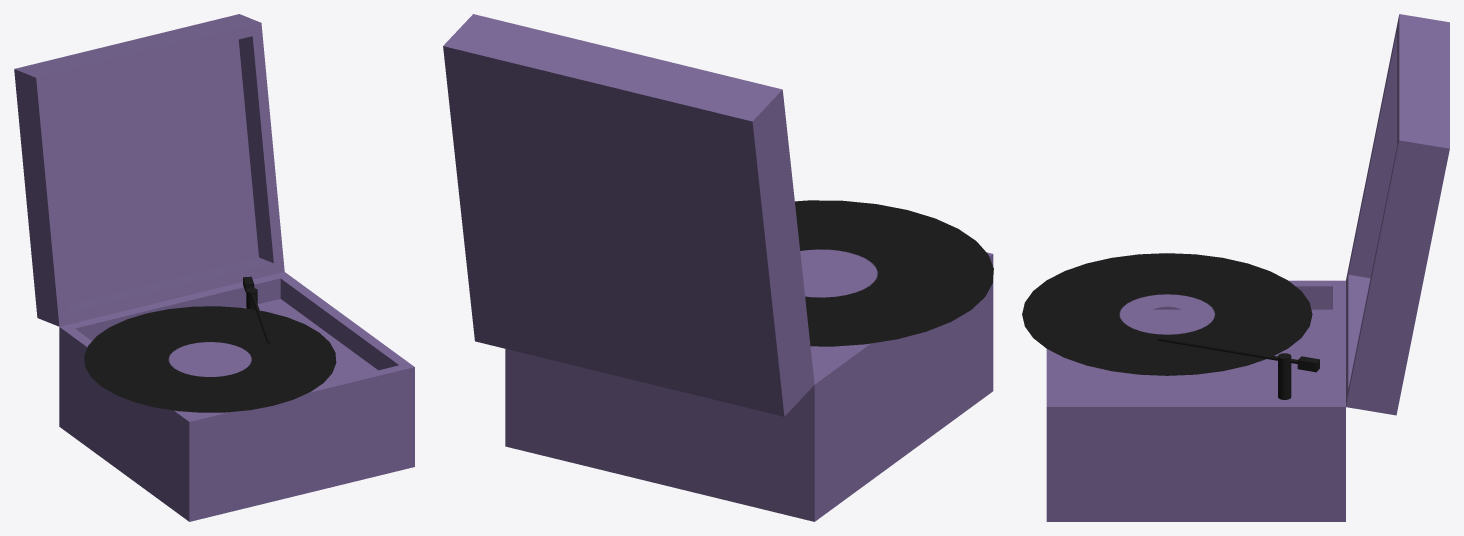
The model's file is tocadiscos.fbx.
3 renders of one model, left to right at view 1: azimuth 30°, elevation 25°; view 2: azimuth 150°, elevation 25°; view 3: azimuth 270°, elevation 25°, orthographic. The views are drawn at different scales.
Parts seen in each view (by area): view 1: Cubo.012, Cilindro.007, Cilindro.006; view 2: Cubo.012, Cilindro.007; view 3: Cubo.012, Cilindro.007, Cilindro.006.
Boxes of the visible parts, <box> form: Cubo.012: <box>14,14,414,521</box>; Cilindro.007: <box>84,306,336,412</box>; Cilindro.006: <box>243,276,270,344</box>; Cubo.012: <box>443,14,993,521</box>; Cilindro.007: <box>795,200,993,346</box>; Cubo.012: <box>1046,14,1449,521</box>; Cilindro.007: <box>1022,253,1312,375</box>; Cilindro.006: <box>1158,336,1319,399</box>.
Size of the model in its own units: 45.23 by 54.84 by 55.73.
